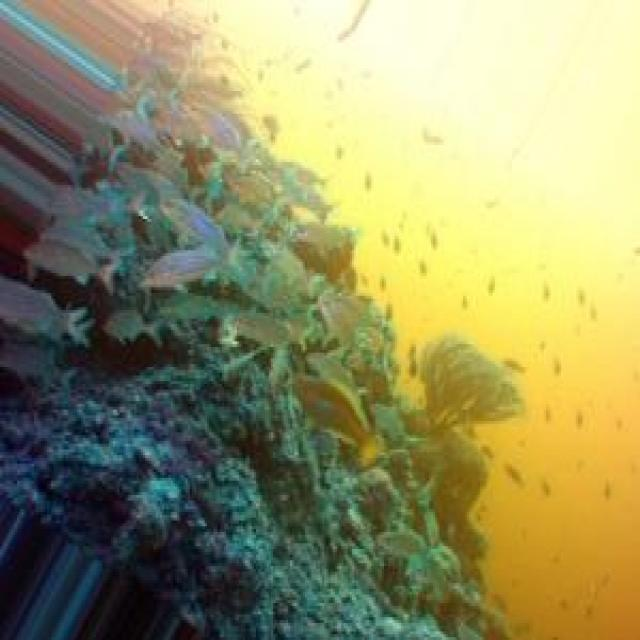Healthy: (2, 356, 460, 639), (412, 336, 524, 566)
